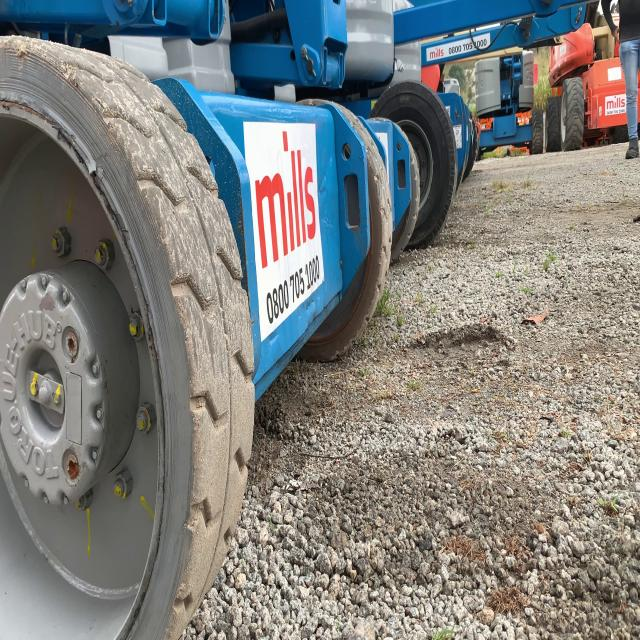Adesivos: (242, 119, 326, 348)
